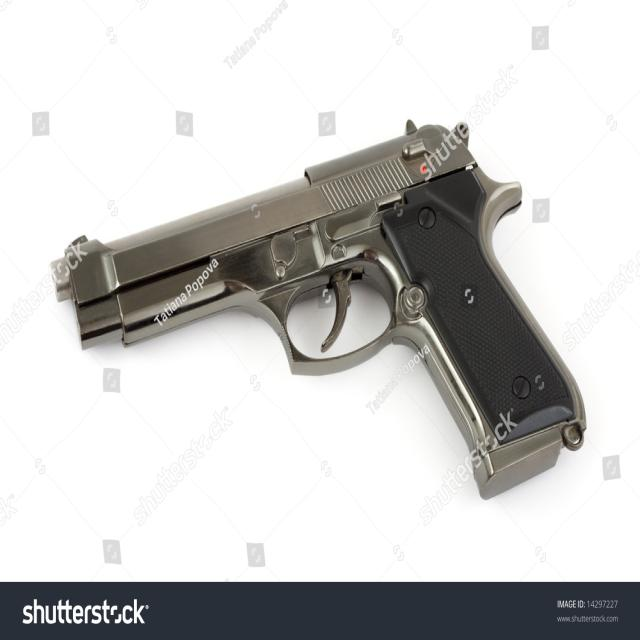handgun: (56, 119, 584, 503)
